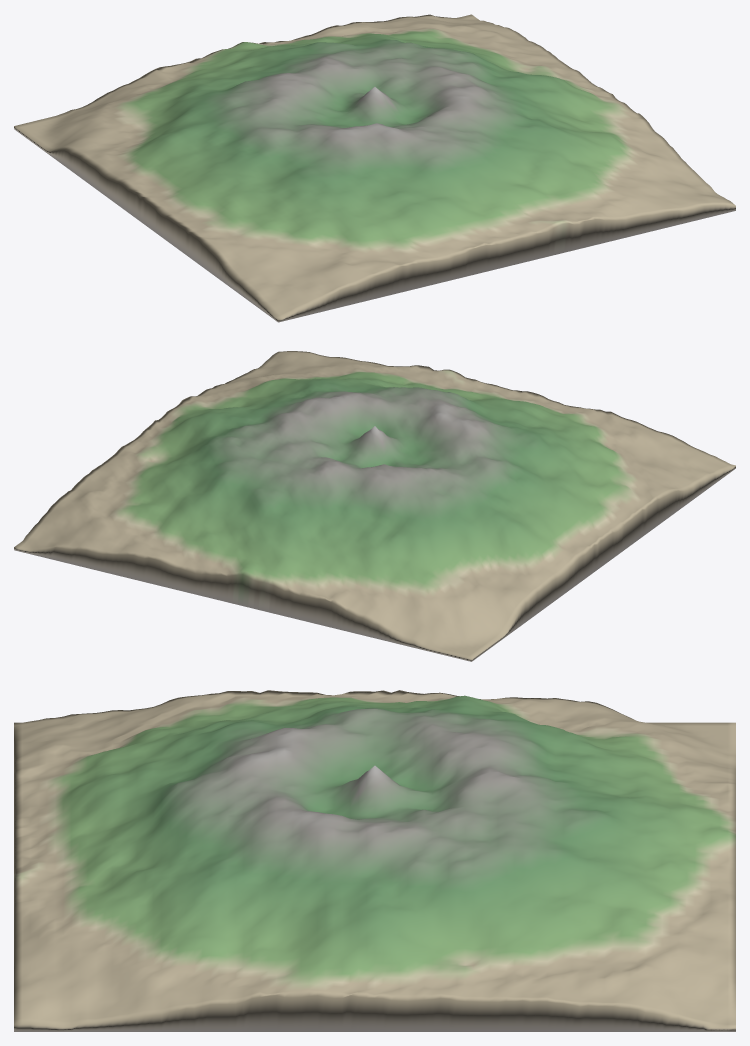
The model's file is gen_island_b.glb.
3 renders of one model, top to bottom at view 1: azimuth 30°, elevation 25°; view 2: azimuth 150°, elevation 25°; view 3: azimuth 270°, elevation 25°, orthographic. The views are drawn at different scales.
Visible parts, largest first — view 1: gen_island_b; view 2: gen_island_b; view 3: gen_island_b.
Boxes of the visible parts, x1,y1,x2,y2 form: gen_island_b: [14, 14, 735, 322]; gen_island_b: [14, 351, 735, 661]; gen_island_b: [14, 690, 735, 1031].
Bounding box in the file's own units: 40 × 6.97 × 40.
